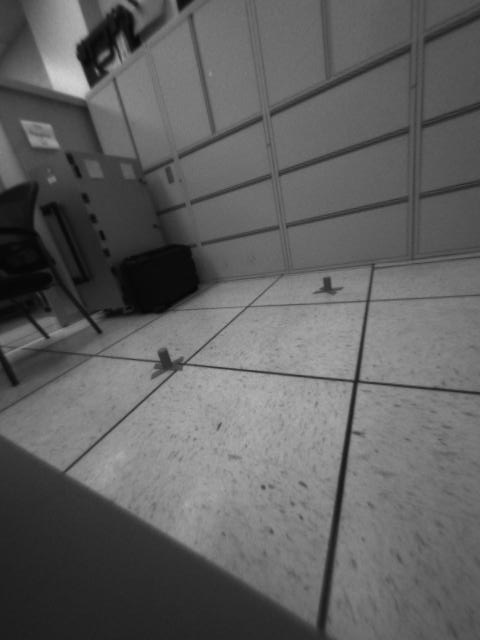X: (151, 344, 182, 380), (308, 274, 345, 295)
